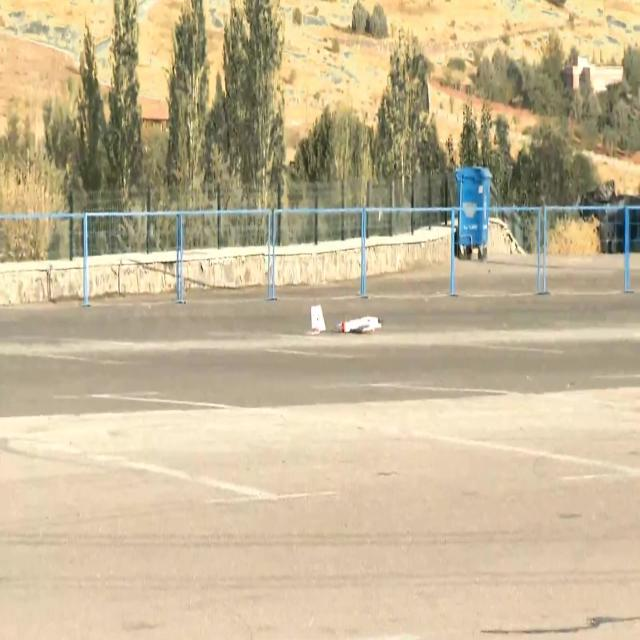iha: (345, 304, 347, 336)
